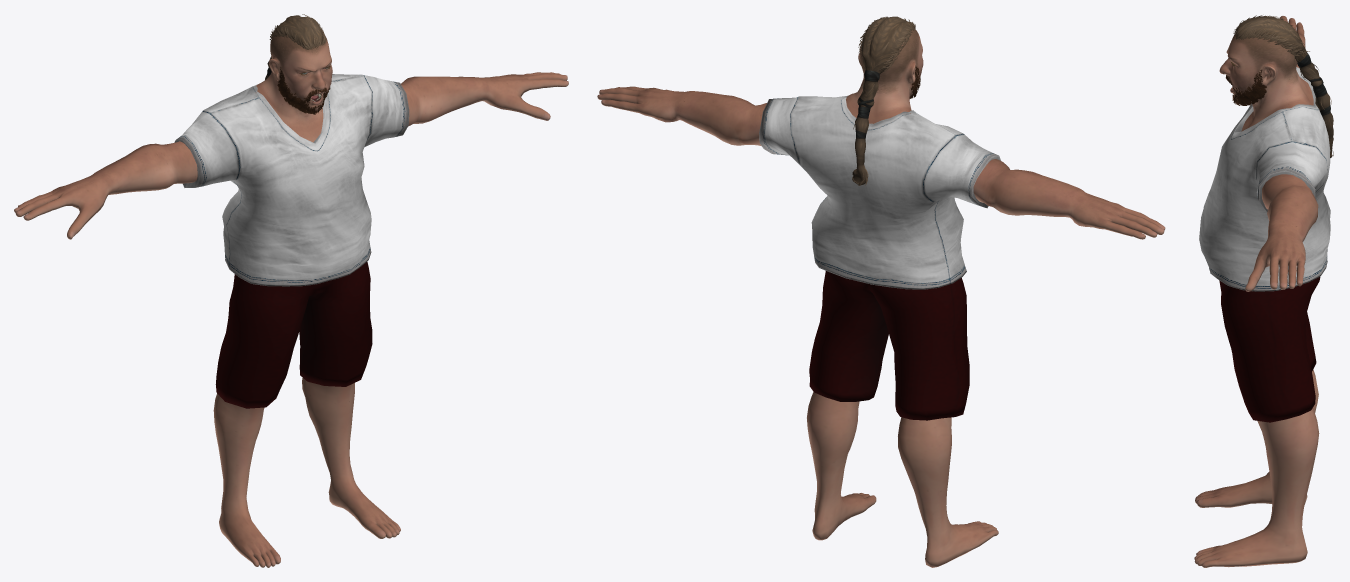
Rendered from dwarf fighter.obj.
The picture shows the model from 3 angles, left to right: view 1: azimuth 30°, elevation 25°; view 2: azimuth 150°, elevation 25°; view 3: azimuth 270°, elevation 25°; orthographic projection. The views are drawn at different scales.
Visible parts, largest first — view 1: Tops, Body, Bottoms, Hair; view 2: Tops, Body, Bottoms, Hair; view 3: Body, Tops, Bottoms, Hair, Beards.
Part boxes in pixels (x1,y1,x2,y2): Tops: (174, 74, 409, 286); Body: (14, 29, 568, 567); Bottoms: (215, 262, 372, 408); Hair: (265, 14, 326, 79); Tops: (759, 95, 1000, 289); Body: (597, 28, 1165, 567); Bottoms: (809, 271, 969, 420); Hair: (852, 16, 915, 185); Body: (1194, 16, 1319, 567); Tops: (1199, 67, 1330, 291); Bottoms: (1219, 277, 1320, 422); Hair: (1233, 15, 1333, 158); Beards: (1232, 69, 1266, 105).
Bounding box in the file's own units: 189 × 167 × 41.24.
1 material, 1 textured.
